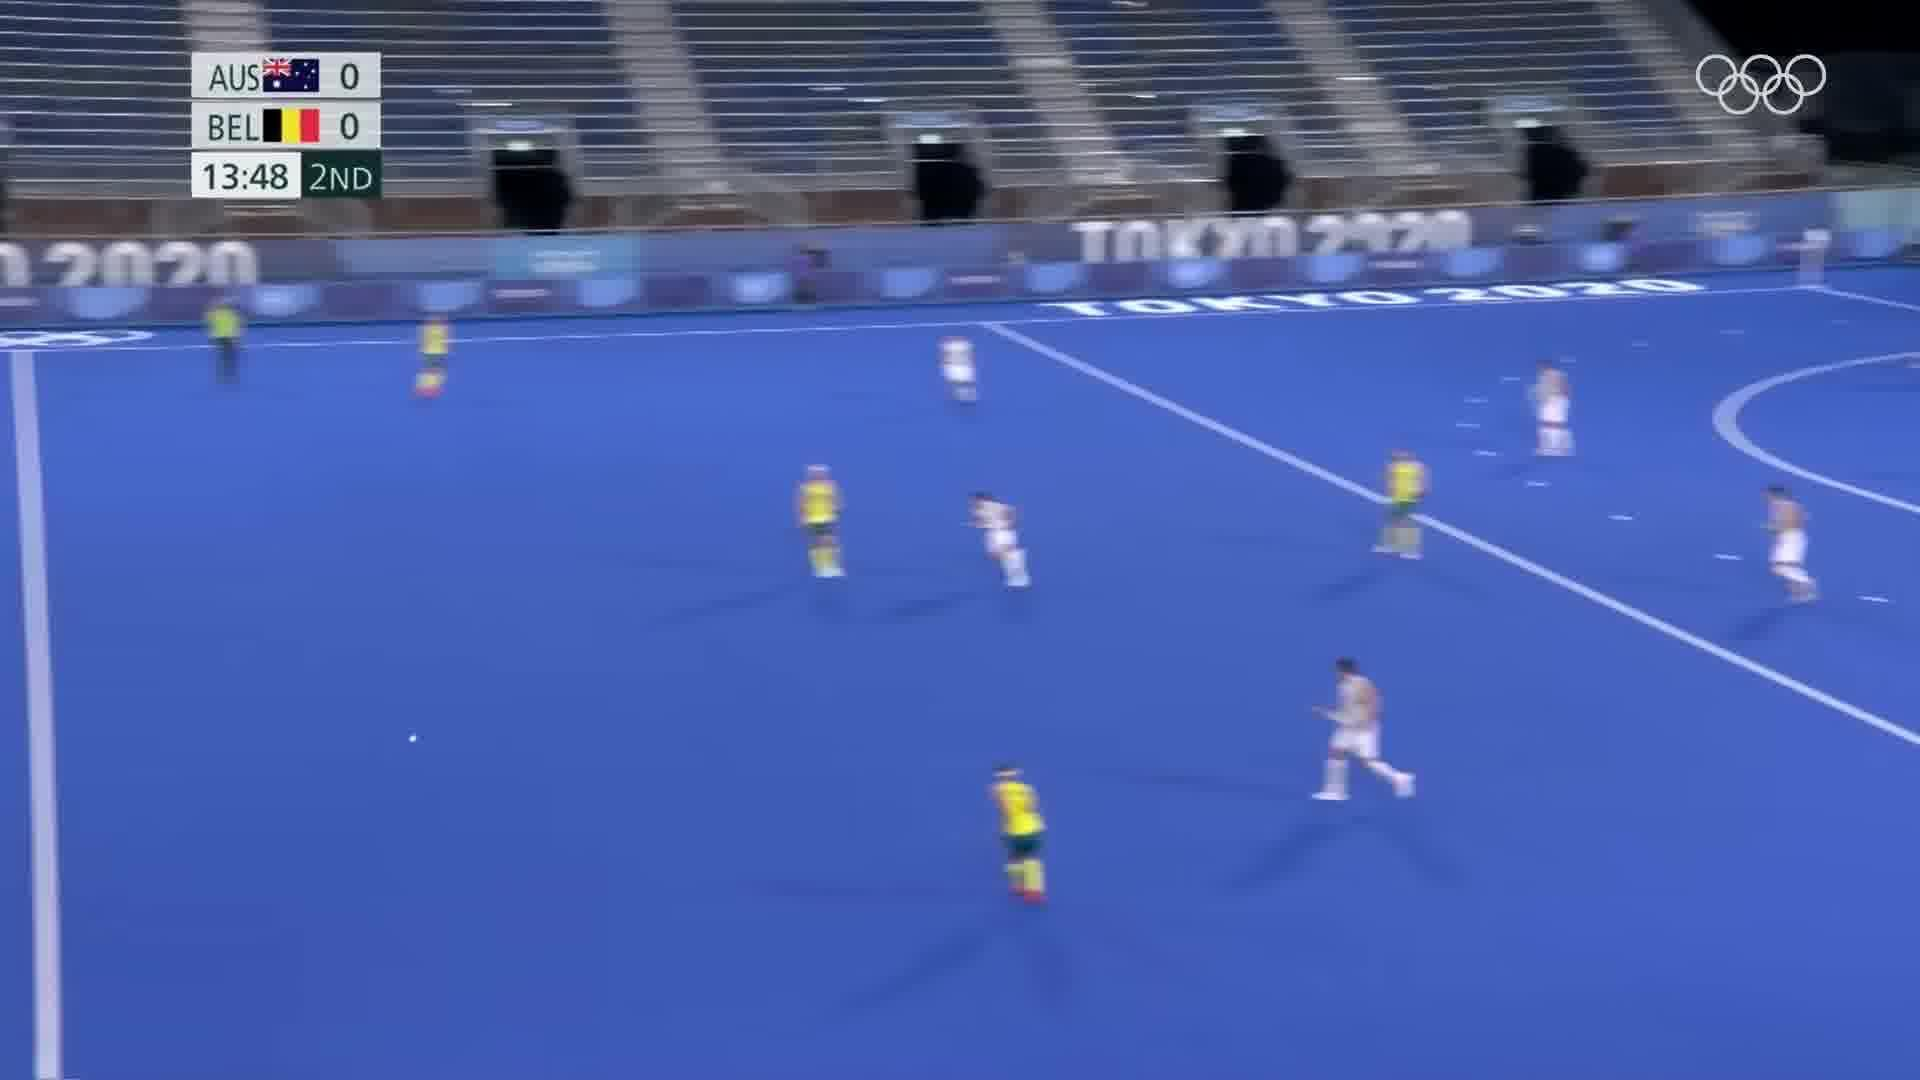ball: (393, 725, 429, 756)
